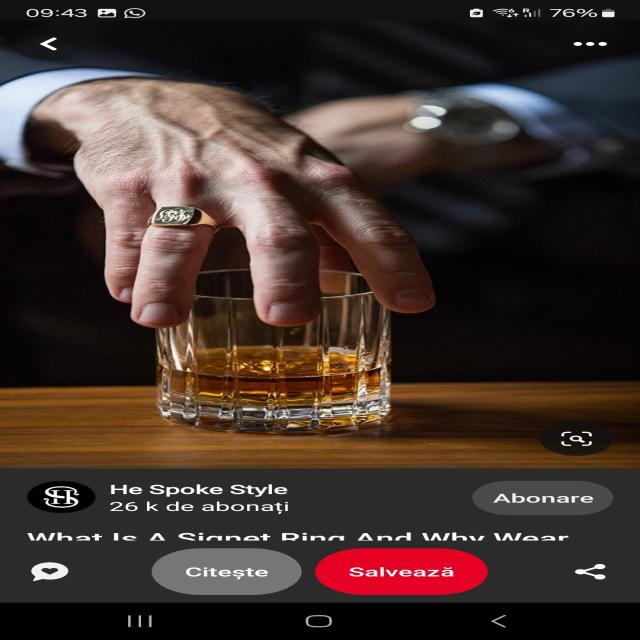hands: (27, 60, 473, 348)
